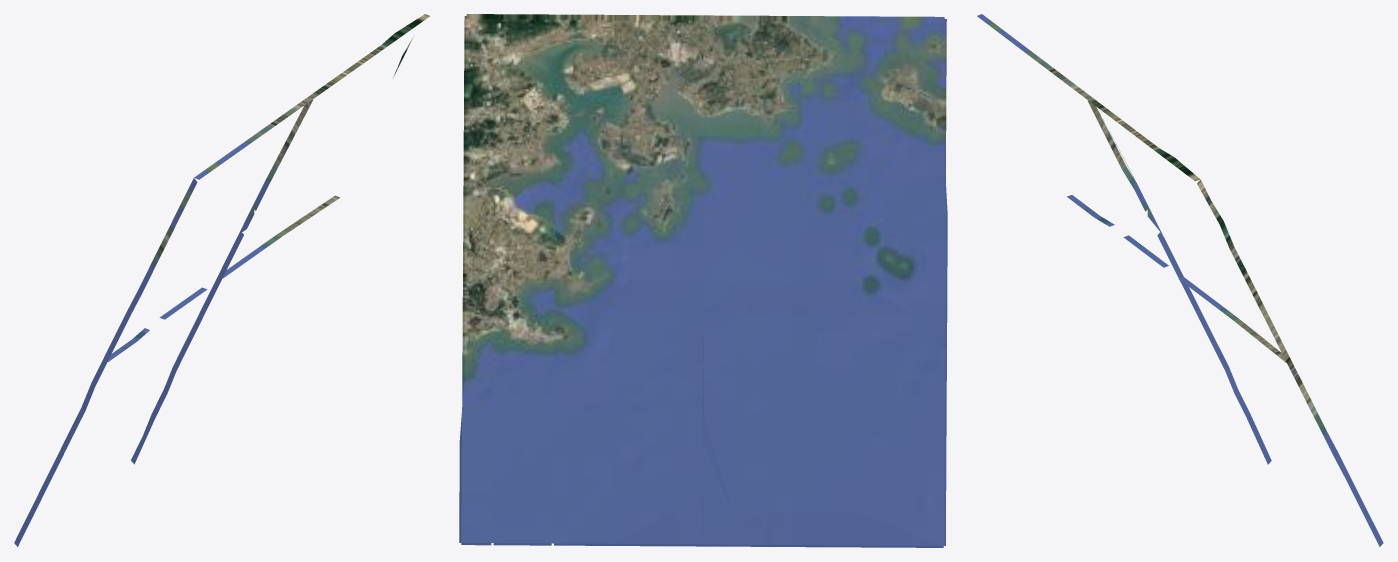
The picture shows the model from 3 angles, left to right: view 1: azimuth 30°, elevation 25°; view 2: azimuth 150°, elevation 25°; view 3: azimuth 270°, elevation 25°; orthographic projection. The views are drawn at different scales.
Bounding box in the file's own units: 78909 × 71876 × 64497.
Materials: 1 (1 with a texture image).
